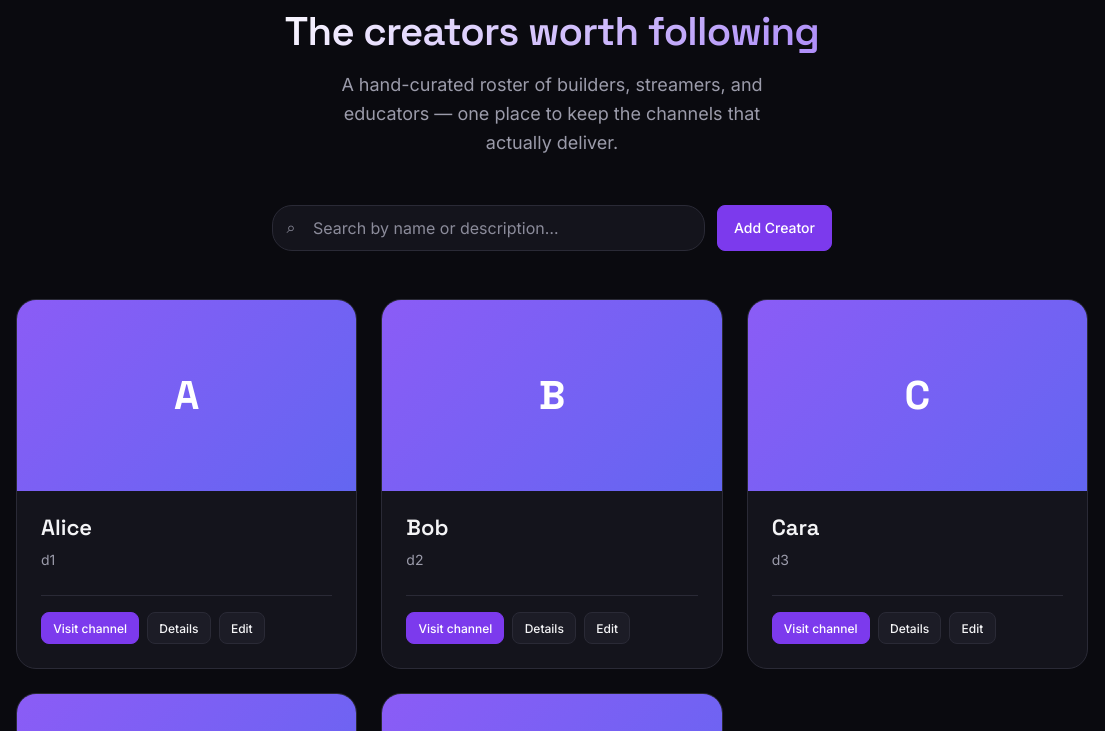
it: ShowCreators › search_no_results_message
Expected: the heading "Alice" is shown, left=41, top=513, right=92, bottom=541
In the search field named "search creators": (488, 228) left=272, top=205, right=705, bottom=251, type "zzz-no-match"
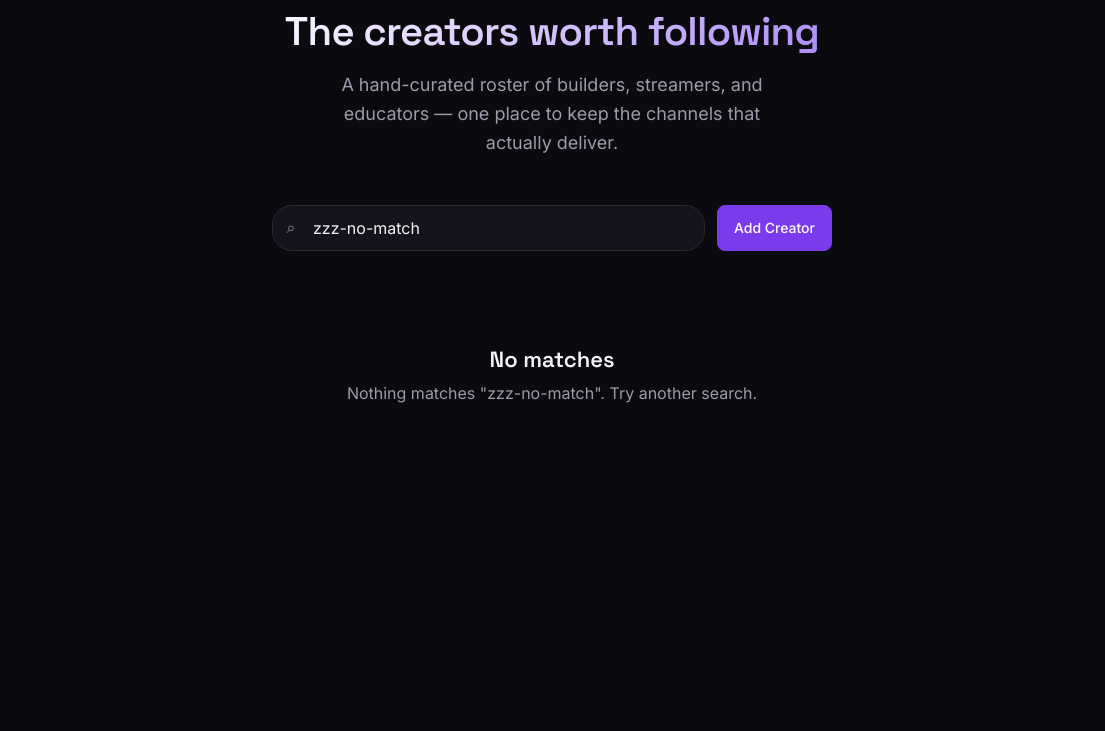
Expected: the heading "No matches" is shown, left=490, top=345, right=614, bottom=373
